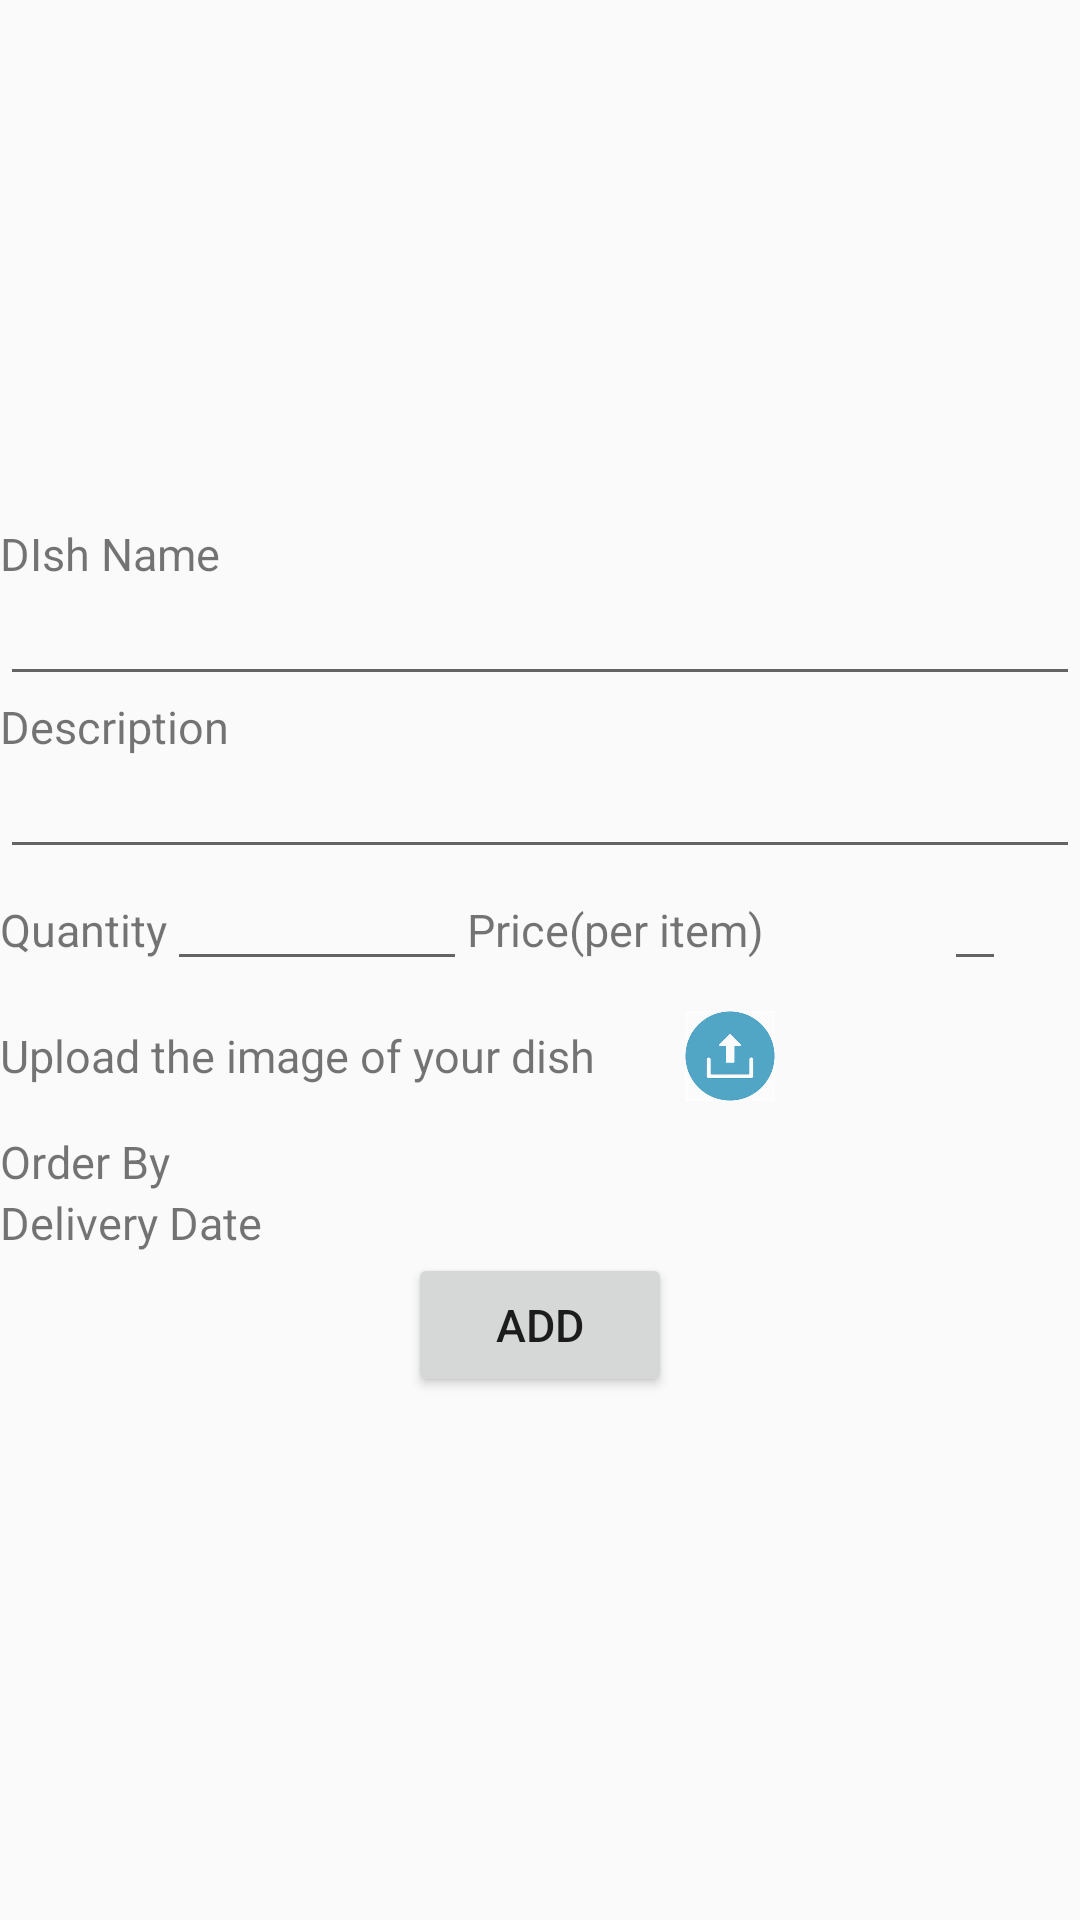

Where to tap for icons on this 1080x1920 app screen, as (x=x, y=y):
uploadimg: (x=730, y=1056)
